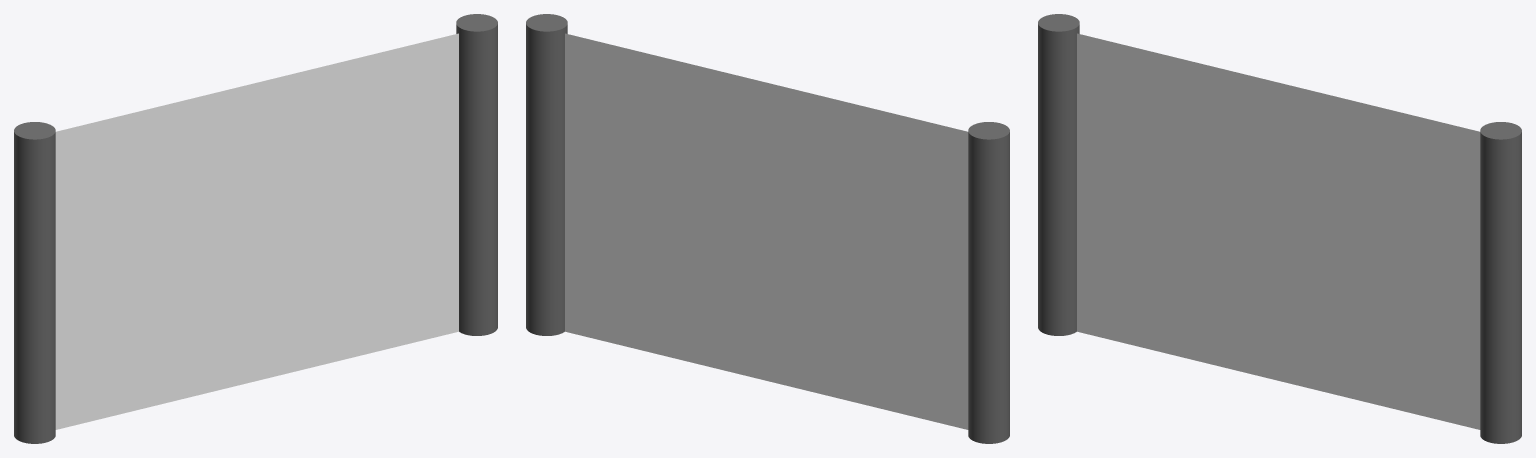
The model's file is SM_Multiply_Door.fbx.
3 views of the same model, side by side, from view 1: azimuth 30°, elevation 25°; view 2: azimuth 150°, elevation 25°; view 3: azimuth 330°, elevation 25° (orthographic).
Parts seen in each view (by area): view 1: SM_Multiple_Door_Gradient, SM_Multiple_Door_R, SM_Multiple_Door_L; view 2: SM_Multiple_Door_Gradient, SM_Multiple_Door_R, SM_Multiple_Door_L; view 3: SM_Multiple_Door_Gradient, SM_Multiple_Door_L, SM_Multiple_Door_R.
Boxes of the visible parts, x1,y1,x2,y2 form: SM_Multiple_Door_Gradient: (55, 33, 458, 429); SM_Multiple_Door_R: (14, 122, 55, 443); SM_Multiple_Door_L: (456, 14, 497, 335); SM_Multiple_Door_Gradient: (565, 33, 968, 429); SM_Multiple_Door_R: (968, 122, 1009, 443); SM_Multiple_Door_L: (526, 14, 567, 335); SM_Multiple_Door_Gradient: (1077, 33, 1480, 429); SM_Multiple_Door_L: (1480, 122, 1521, 443); SM_Multiple_Door_R: (1038, 14, 1079, 335).
Size of the model in its own units: 281 by 171 by 21.32.
